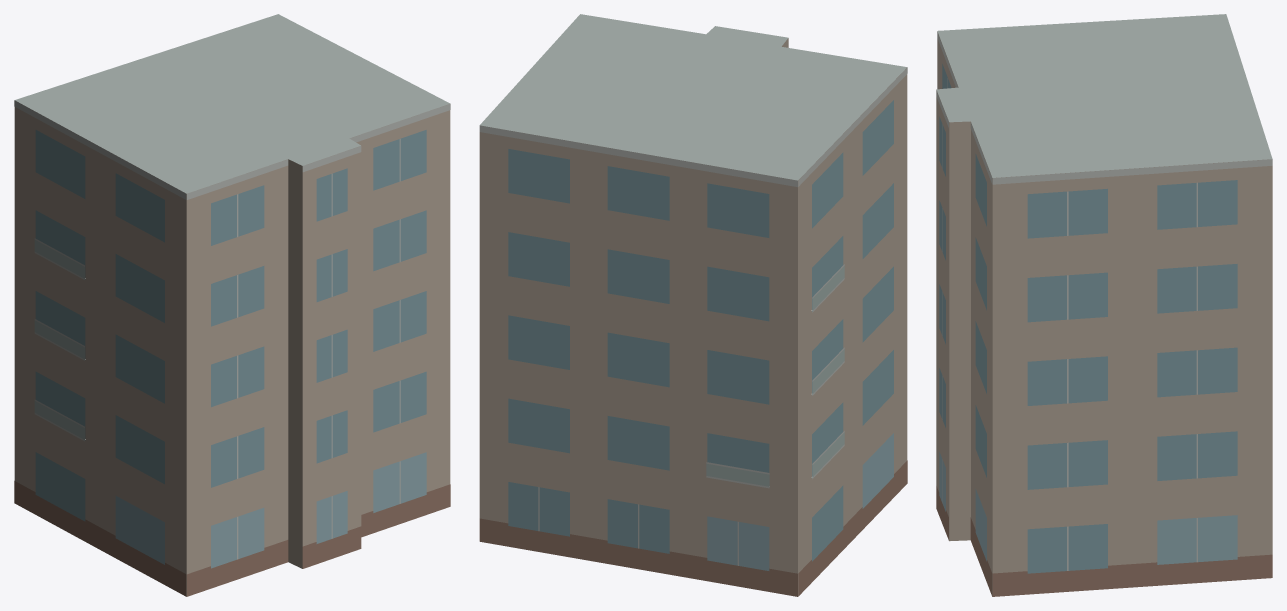
Rendered from survey-upis-32990807.glb.
The picture shows the model from 3 angles, left to right: view 1: azimuth 30°, elevation 25°; view 2: azimuth 150°, elevation 25°; view 3: azimuth 270°, elevation 25°; orthographic projection. The views are drawn at different scales.
Parts seen in each view (by area): view 1: survey-upis-32990807.tmp; view 2: survey-upis-32990807.tmp; view 3: survey-upis-32990807.tmp.
Boxes of the visible parts, x1,y1,x2,y2 form: survey-upis-32990807.tmp: [14, 14, 450, 596]; survey-upis-32990807.tmp: [479, 14, 907, 596]; survey-upis-32990807.tmp: [936, 14, 1272, 596].
Bounding box in the file's own units: 12.82 × 15.25 × 11.11.
